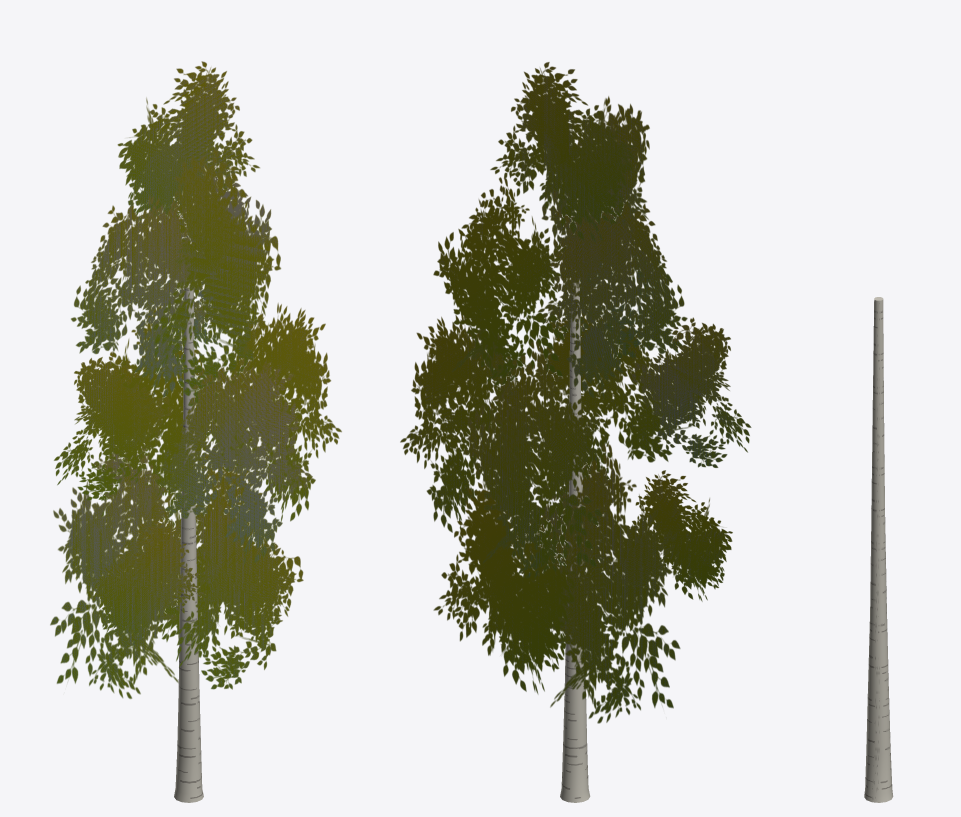
Rendered from tree_medium_birch_upright_canopy_lod1.glb.
3 renders of one model, left to right at view 1: azimuth 30°, elevation 25°; view 2: azimuth 150°, elevation 25°; view 3: azimuth 270°, elevation 25°, orthographic. The views are drawn at different scales.
Visible parts, largest first — view 1: TreeHLOD1_Foliage, Birch_Trunk_Stylized; view 2: TreeHLOD1_Foliage, Birch_Trunk_Stylized; view 3: Birch_Trunk_Stylized.
Part boxes in pixels (x1,y1,x2,y2): TreeHLOD1_Foliage: [50, 61, 341, 698]; Birch_Trunk_Stylized: [174, 283, 203, 802]; TreeHLOD1_Foliage: [400, 62, 751, 723]; Birch_Trunk_Stylized: [560, 279, 590, 802]; Birch_Trunk_Stylized: [864, 297, 893, 802].
Bounding box in the file's own units: 6.41 × 12.76 × 2.17.
2 materials, 2 textured.
